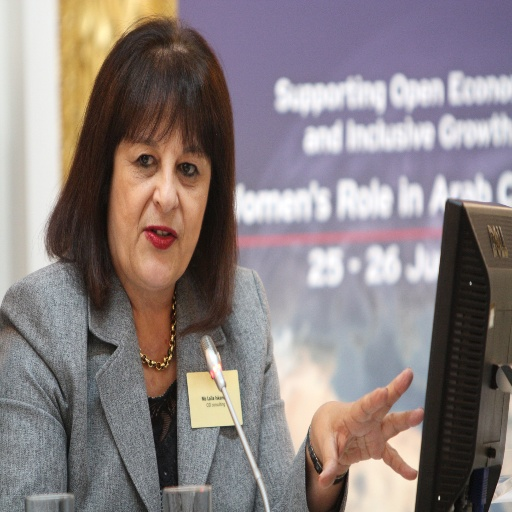hand: (311, 378, 439, 491)
